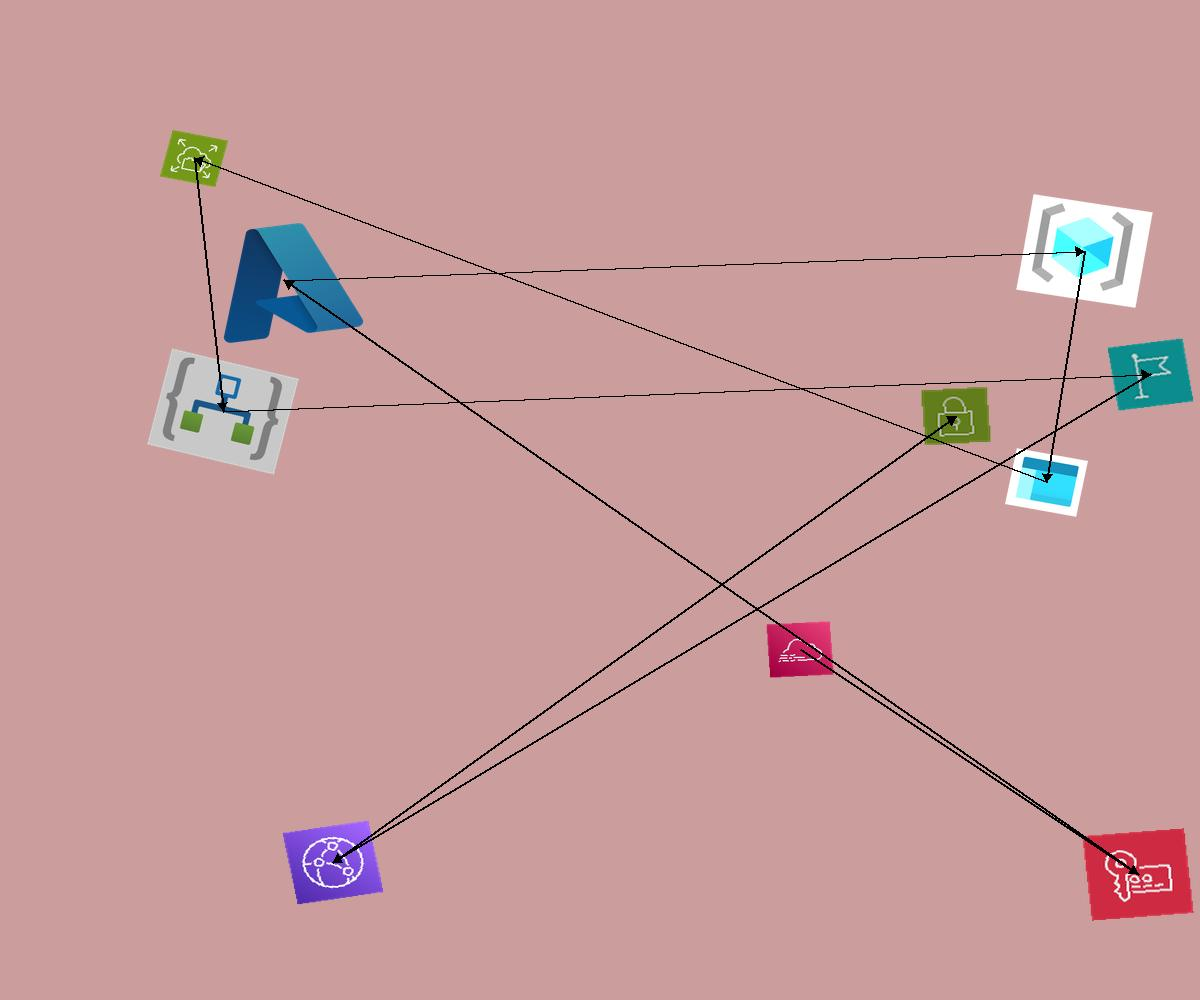AWS-CloudFront: (282, 820, 384, 905)
AWS-CloudTrail: (766, 621, 834, 678)
AWS-EFS: (160, 130, 228, 187)
AWS-Key-Management-Service: (1082, 828, 1194, 921)
AWS-Public-subnet: (920, 386, 992, 446)
AWS-Region: (1107, 338, 1194, 411)
Azure_integration-204-Logic-Apps: (147, 348, 299, 475)
Azure_management-portal: (1005, 448, 1088, 517)
Azure_resource_group: (1016, 194, 1153, 308)
Azure_services: (197, 208, 372, 353)
